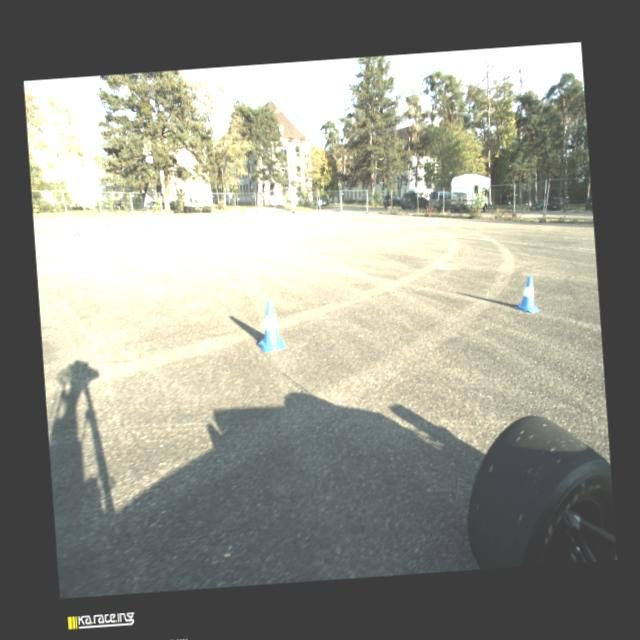blue_cone: (255, 299, 286, 352), (512, 275, 539, 313), (72, 225, 81, 238), (142, 222, 149, 232), (196, 218, 202, 228), (237, 218, 240, 226), (253, 216, 256, 222)
yellow_cone: (105, 220, 110, 229), (170, 217, 175, 226)
